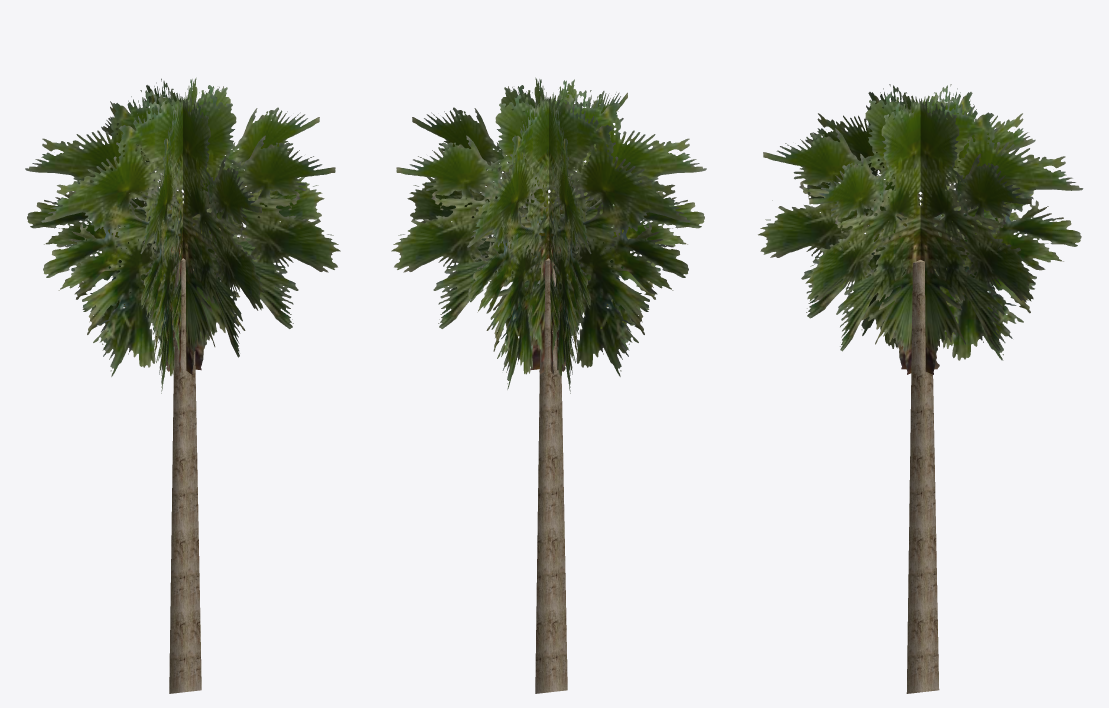
The model's file is PalmTree.dae.
3 views of the same model, side by side, from view 1: azimuth 30°, elevation 25°; view 2: azimuth 150°, elevation 25°; view 3: azimuth 270°, elevation 25° (orthographic).
Parts seen in each view (by area): view 1: Composant__1 (×4), Composant__2; view 2: Composant__1 (×4), Composant__2; view 3: Composant__1 (×3), Composant__2.
Boxes of the visible parts, left/top/right/bottom form: Composant__1 (×4): left=25, top=77, right=340, bottom=393; Composant__2: left=169, top=258, right=201, bottom=693; Composant__1 (×4): left=391, top=77, right=706, bottom=393; Composant__2: left=535, top=258, right=567, bottom=693; Composant__1 (×3): left=758, top=84, right=1083, bottom=374; Composant__2: left=906, top=260, right=939, bottom=693.
Size of the model in its own units: 217 by 217 by 412.
2 materials, 2 textured.
